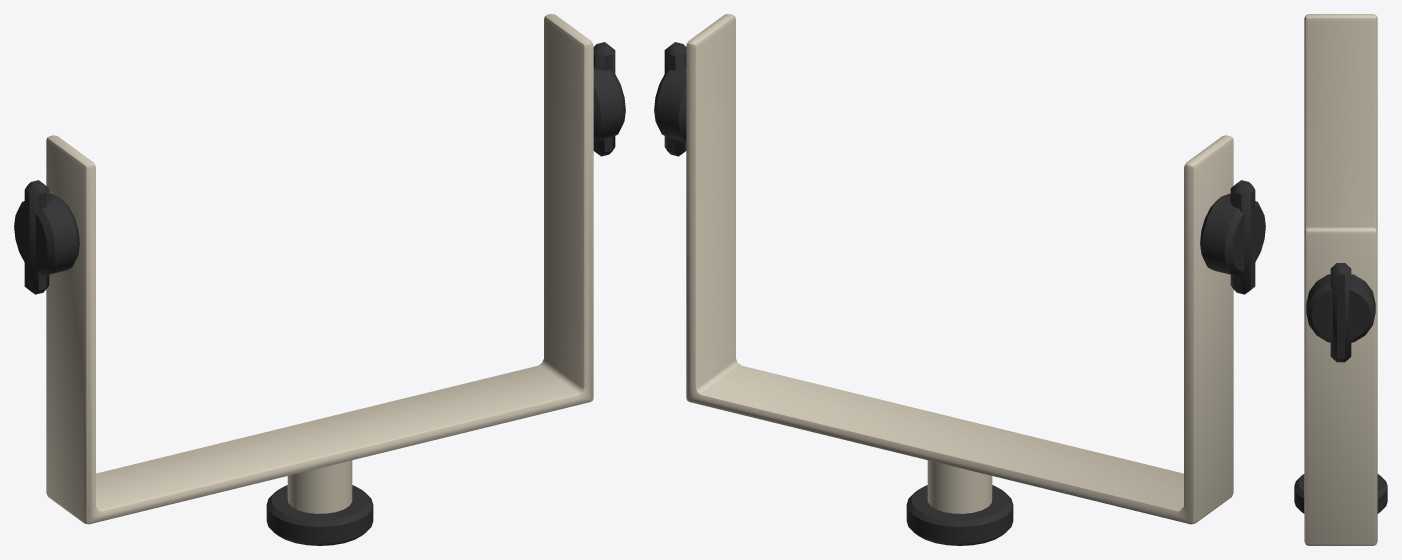
The model's file is Kit_EmergencyTwinHead_Yoke.fbx.
The picture shows the model from 3 angles, left to right: view 1: azimuth 30°, elevation 25°; view 2: azimuth 150°, elevation 25°; view 3: azimuth 270°, elevation 25°; orthographic projection. The views are drawn at different scales.
Parts seen in each view (by area): view 1: Kit_EmergencyTwinHead_Yoke; view 2: Kit_EmergencyTwinHead_Yoke; view 3: Kit_EmergencyTwinHead_Yoke.
Part boxes in pixels (bbox=[...]): Kit_EmergencyTwinHead_Yoke: bbox=[14, 14, 625, 545]; Kit_EmergencyTwinHead_Yoke: bbox=[654, 14, 1265, 545]; Kit_EmergencyTwinHead_Yoke: bbox=[1294, 14, 1387, 545].
Size of the model in its own units: 0.146 by 0.104 by 0.023.
